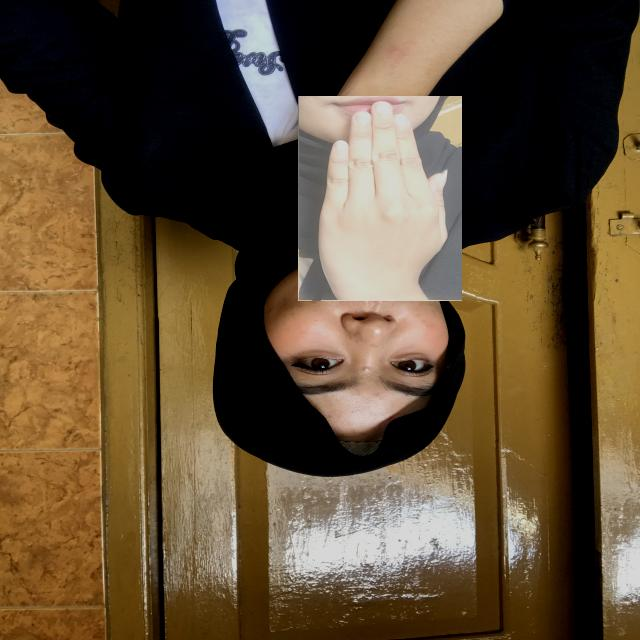ganteng: (298, 96, 462, 301)
